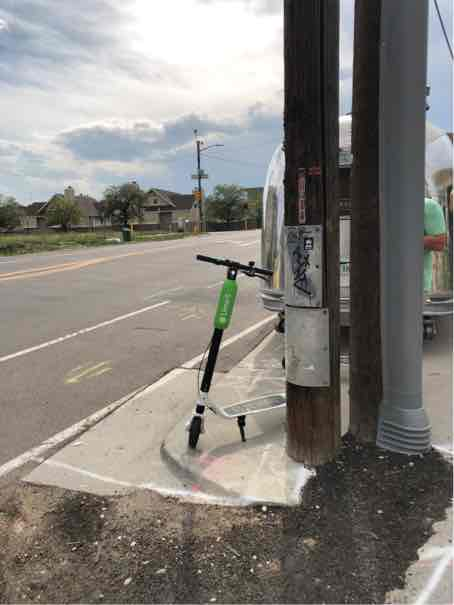scooter: (176, 246, 298, 457)
